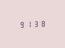eight: (39, 19, 45, 27)
nine: (18, 20, 24, 28)
one: (25, 20, 31, 28)
three: (32, 19, 38, 27)
